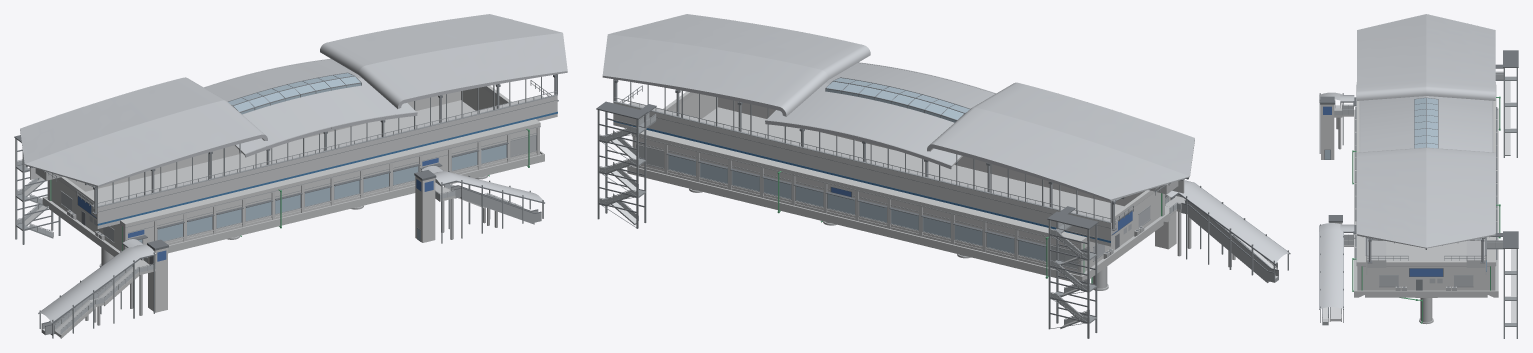
The picture shows the model from 3 angles, left to right: view 1: azimuth 30°, elevation 25°; view 2: azimuth 150°, elevation 25°; view 3: azimuth 270°, elevation 25°; orthographic projection. The views are drawn at different scales.
Parts seen in each view (by area): view 1: BL33, BL33_conc, BL33_access; view 2: BL33, BL33_conc, BL33_access; view 3: BL33, BL33_conc, BL33_access.
Part boxes in pixels (x1,y1,x2,y2): BL33: [20, 14, 567, 228]; BL33_conc: [42, 85, 544, 266]; BL33_access: [14, 129, 544, 338]; BL33: [602, 14, 1194, 246]; BL33_conc: [627, 91, 1170, 290]; BL33_access: [596, 101, 1290, 338]; BL33: [1357, 14, 1495, 274]; BL33_conc: [1353, 82, 1498, 324]; BL33_access: [1319, 50, 1518, 338].
Size of the model in its own units: 117 by 28 by 39.63.
